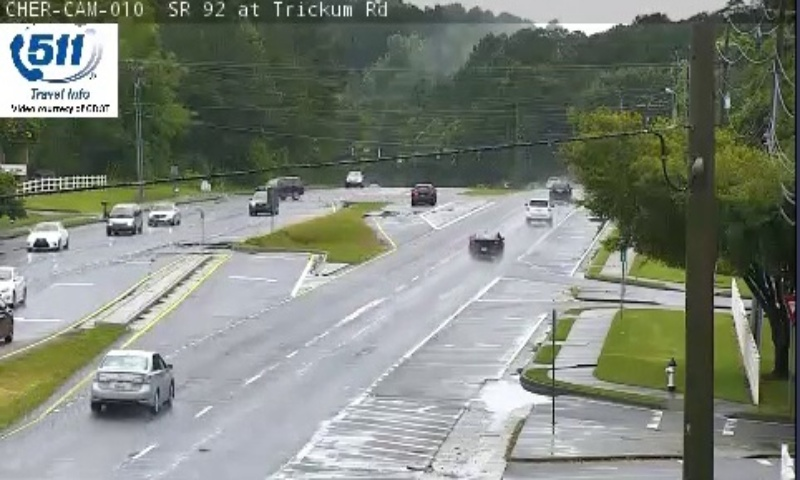car: (89, 348, 175, 407), (468, 229, 502, 259), (524, 198, 551, 221)
